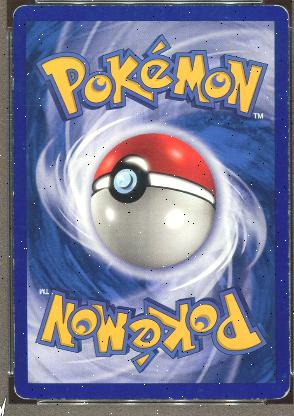Card: (11, 2, 291, 402)
Corner Wear: (261, 380, 289, 400), (13, 382, 38, 400), (271, 4, 289, 29), (11, 4, 26, 22)
Edge Wear: (286, 127, 289, 259), (285, 26, 289, 124), (286, 262, 289, 354), (44, 4, 127, 6), (47, 397, 128, 399), (155, 397, 213, 399), (223, 4, 269, 6), (237, 397, 265, 399), (152, 4, 179, 6)
